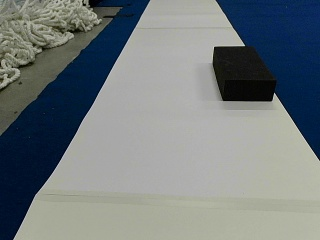block: (211, 45, 276, 101)
